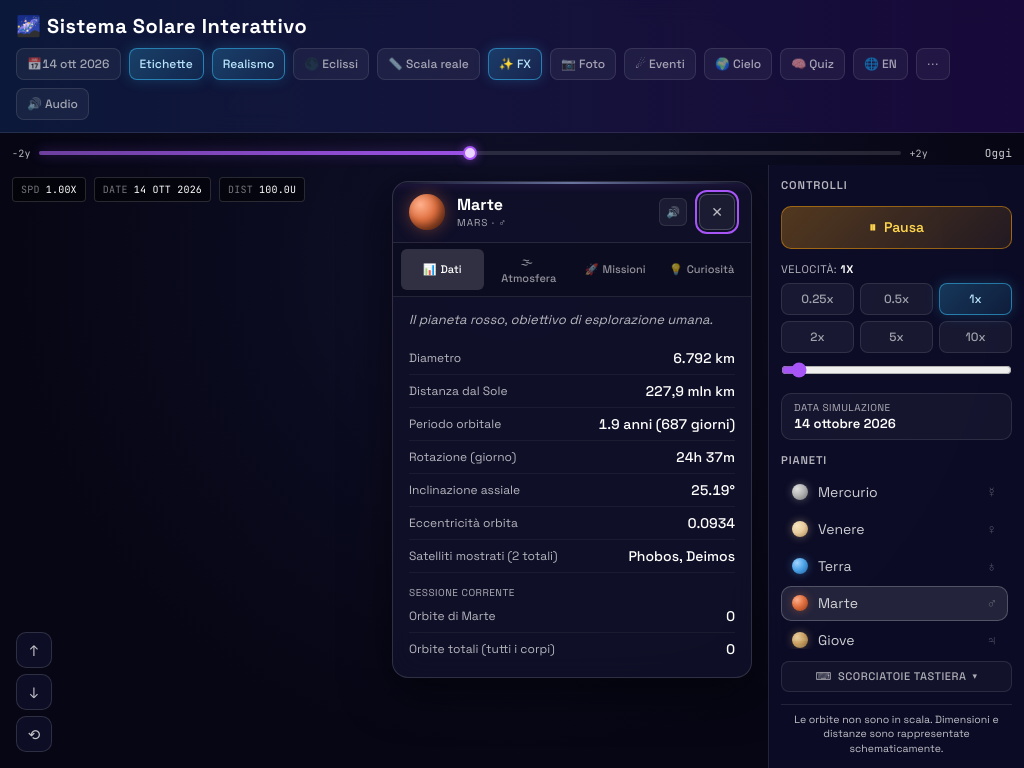
App — interazioni › attiva/disattiva la riproduzione dal pulsante in sidebar
Click the button "⏸ Pausa": (896, 227) [781,206,1012,249]
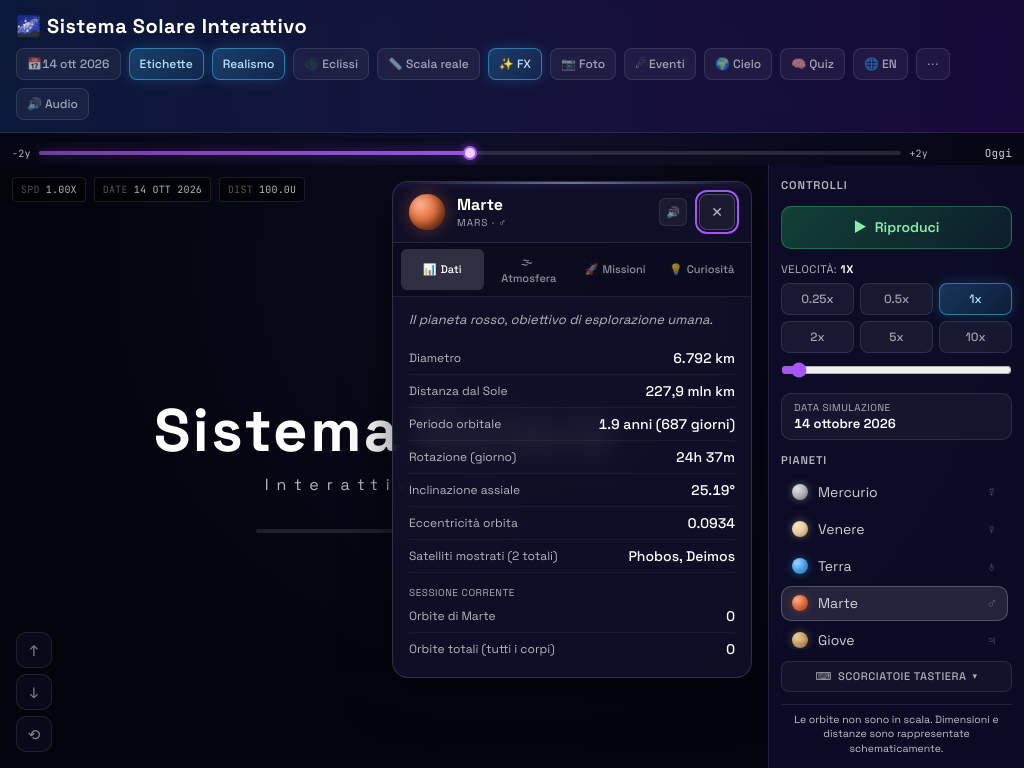
Check: the button "▶ Riproduci" is shown, box [781,206,1012,249]
